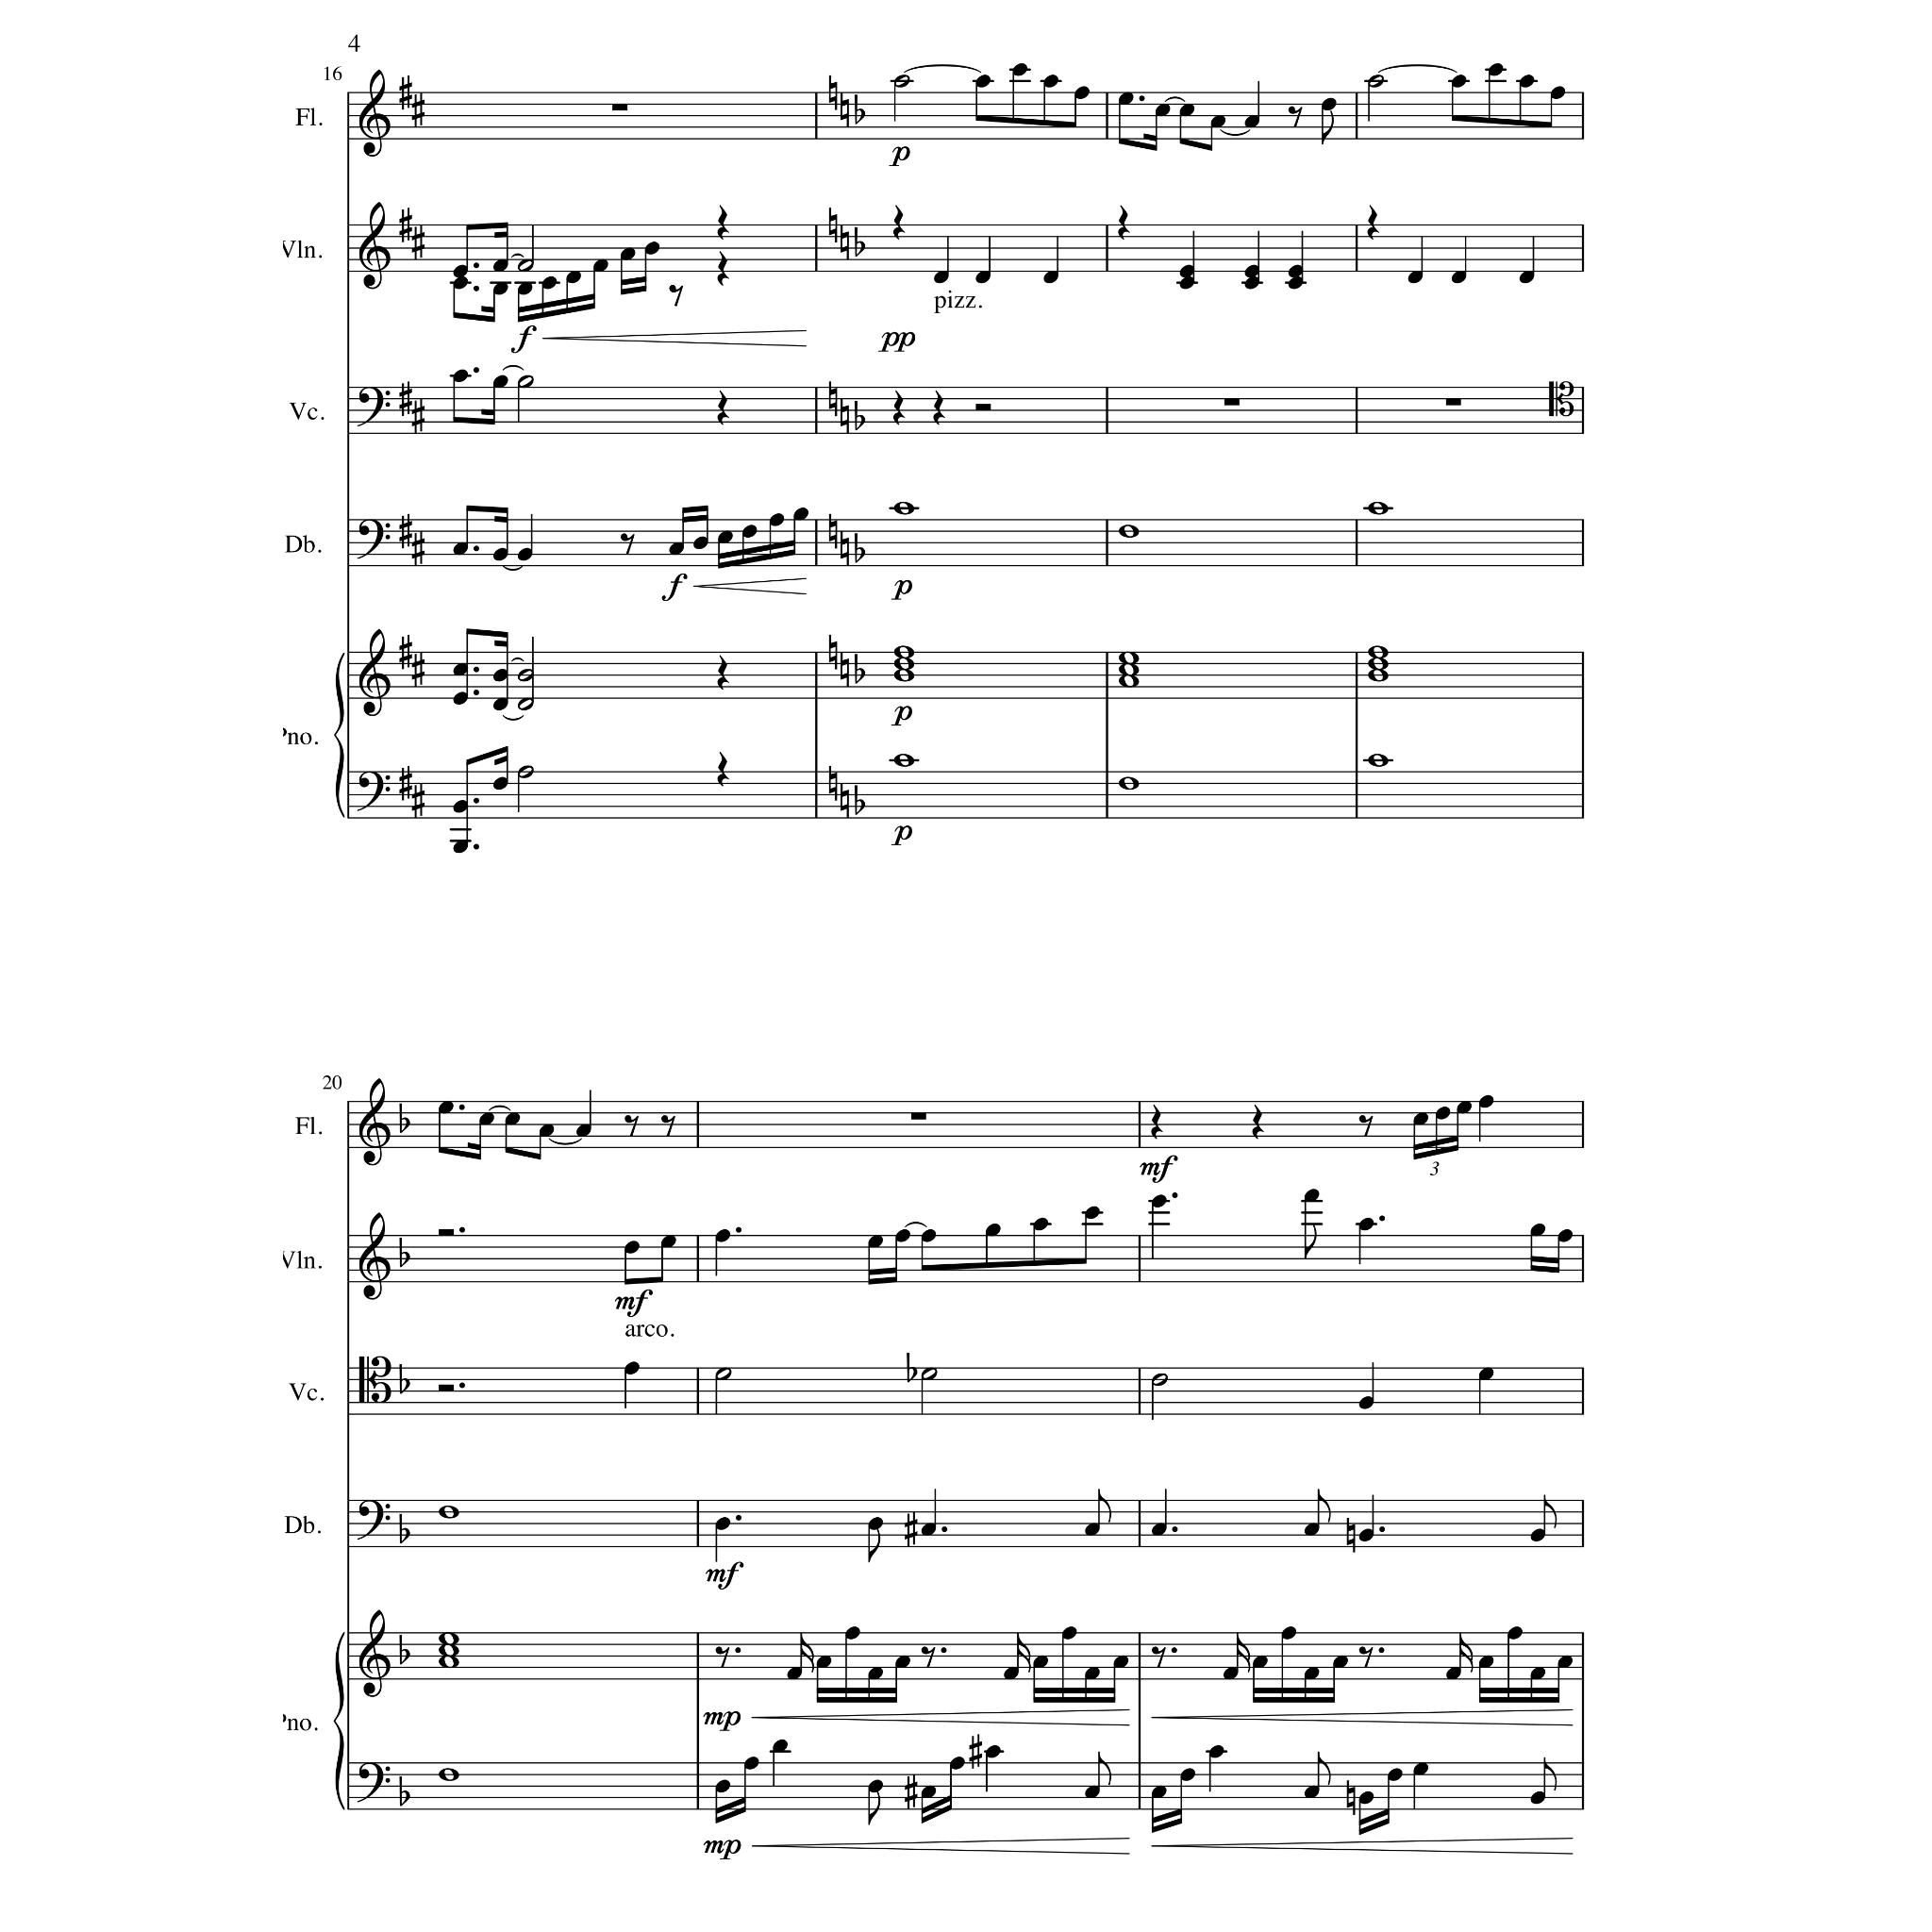brace: (333, 1633, 345, 1810), (333, 653, 345, 819)
fClef: (357, 387, 391, 428), (357, 771, 391, 812), (357, 1762, 391, 1803), (357, 520, 391, 559), (357, 1500, 391, 1539)
flag16thUp: (1460, 1633, 1474, 1674), (800, 1633, 814, 1674), (1237, 1633, 1249, 1674), (1017, 1633, 1030, 1674)
flag8thDown: (1322, 110, 1334, 145), (1304, 1224, 1316, 1258), (869, 1792, 881, 1826), (869, 1529, 881, 1562)
flag8thUp: (1545, 1757, 1557, 1792), (1318, 1490, 1330, 1523), (1318, 1752, 1330, 1785), (1099, 1752, 1111, 1785), (1099, 1490, 1111, 1523), (1545, 1495, 1557, 1529)
gClef: (359, 69, 391, 157), (359, 202, 391, 290), (359, 628, 391, 717), (359, 1077, 391, 1166), (359, 1212, 391, 1300), (359, 1610, 391, 1698)
noteheadBlack: (1042, 74, 1060, 88), (1042, 271, 1060, 285), (844, 1626, 862, 1640), (1210, 115, 1226, 129), (1244, 115, 1260, 129), (1244, 276, 1260, 290), (1178, 276, 1194, 290), (975, 74, 991, 88), (975, 271, 991, 285), (934, 271, 950, 285), (1074, 87, 1090, 101), (1118, 92, 1134, 106), (1550, 87, 1566, 101), (1518, 74, 1534, 88), (1518, 271, 1534, 285), (1288, 276, 1304, 290), (1322, 97, 1338, 111), (1407, 271, 1422, 285), (1451, 74, 1467, 88), (1451, 271, 1467, 285), (492, 281, 508, 295), (492, 375, 508, 389), (492, 697, 508, 711), (492, 669, 508, 683), (492, 777, 508, 791), (541, 276, 557, 290), (517, 281, 533, 295), (453, 276, 469, 290), (453, 541, 469, 556), (453, 840, 469, 855), (453, 800, 469, 814), (768, 513, 784, 527), (741, 524, 757, 538), (644, 242, 660, 257), (669, 541, 685, 556), (566, 271, 582, 285), (621, 248, 637, 262), (718, 531, 734, 545), (694, 536, 709, 550), (1180, 1767, 1196, 1782), (1223, 1667, 1238, 1681), (1208, 1744, 1224, 1759), (1359, 1217, 1375, 1231), (1304, 1667, 1320, 1681), (1281, 1626, 1297, 1640), (1359, 1529, 1375, 1543), (1304, 1522, 1320, 1536), (1304, 1785, 1320, 1799), (1359, 1396, 1375, 1410), (1150, 1522, 1166, 1536), (1150, 1785, 1166, 1799), (1085, 1522, 1100, 1536), (1085, 1667, 1100, 1681), (1085, 1785, 1100, 1799), (1530, 1529, 1546, 1543), (1530, 1667, 1546, 1681), (1387, 1767, 1403, 1782), (1479, 1095, 1495, 1109), (1479, 1368, 1495, 1382), (1507, 1626, 1523, 1640), (1435, 1106, 1451, 1120), (1445, 1667, 1461, 1681), (1456, 1100, 1472, 1115), (625, 1240, 640, 1254), (625, 1361, 640, 1375), (538, 1123, 554, 1138), (575, 1123, 591, 1138), (715, 1516, 731, 1530), (437, 1100, 453, 1115), (920, 1785, 936, 1799), (920, 1522, 936, 1536), (1003, 1667, 1019, 1681), (1033, 1217, 1049, 1231), (984, 1744, 1000, 1759), (771, 1739, 787, 1753), (786, 1667, 801, 1681), (867, 1516, 883, 1530), (867, 1667, 883, 1681), (1412, 1113, 1430, 1125), (1412, 1762, 1430, 1775), (1062, 1626, 1076, 1640), (1244, 265, 1260, 278), (1155, 104, 1171, 117), (1178, 104, 1194, 117), (1178, 265, 1194, 278), (1012, 64, 1028, 76), (1488, 64, 1504, 76), (1288, 265, 1304, 278), (492, 260, 508, 272), (492, 548, 508, 561), (517, 548, 533, 561), (453, 692, 469, 704), (453, 265, 469, 278), (453, 370, 469, 382), (453, 663, 469, 676), (793, 508, 809, 520), (593, 260, 609, 272), (1253, 1656, 1269, 1668), (1359, 1792, 1375, 1805), (1332, 1656, 1348, 1668), (1304, 1189, 1320, 1201), (1113, 1656, 1129, 1668), (1150, 1194, 1166, 1207), (1085, 1207, 1100, 1219), (1557, 1230, 1573, 1242), (1557, 1656, 1573, 1668), (1530, 1224, 1546, 1237), (1530, 1792, 1546, 1805), (1479, 1656, 1495, 1668), (660, 1235, 676, 1247), (479, 1113, 495, 1125), (504, 1113, 520, 1125), (715, 1230, 731, 1242), (715, 1780, 731, 1792), (895, 1230, 911, 1242), (895, 1656, 911, 1668), (920, 1230, 936, 1242), (1033, 1656, 1049, 1668), (948, 1757, 964, 1769), (984, 1224, 1000, 1237), (816, 1656, 832, 1668), (743, 1757, 759, 1769), (867, 1235, 883, 1247), (867, 1780, 883, 1792)
noteheadHalf: (517, 375, 534, 389), (517, 669, 534, 683), (715, 1368, 732, 1382), (920, 1368, 938, 1382), (1152, 1373, 1168, 1387), (517, 260, 534, 272), (517, 699, 534, 711), (517, 766, 534, 778), (893, 76, 911, 88), (1368, 76, 1384, 88)
noteheadWhole: (1118, 525, 1139, 540), (1118, 674, 1139, 688), (1118, 651, 1139, 665), (1118, 777, 1139, 791), (1368, 669, 1389, 683), (1368, 656, 1389, 671), (1368, 646, 1389, 660), (1368, 501, 1389, 515), (893, 501, 915, 515), (893, 669, 915, 683), (893, 656, 915, 671), (893, 646, 915, 660), (437, 1506, 458, 1520), (437, 1644, 458, 1658), (437, 1631, 458, 1645), (437, 1767, 458, 1782), (1118, 663, 1139, 676), (1368, 754, 1389, 766), (893, 754, 915, 766), (437, 1656, 458, 1668)
rest8th: (669, 285, 685, 308), (619, 533, 635, 556), (623, 1115, 639, 1138), (660, 1115, 676, 1138), (715, 1645, 731, 1668), (920, 1645, 936, 1668), (1288, 106, 1302, 129), (1359, 1115, 1373, 1138), (1359, 1645, 1373, 1668), (1152, 1645, 1166, 1668)
restHalf: (975, 403, 991, 410), (439, 1230, 455, 1237), (439, 1384, 455, 1391)
restQuarter: (932, 391, 945, 426), (1118, 205, 1131, 241), (1368, 205, 1380, 241), (893, 205, 906, 241), (893, 391, 906, 426), (1251, 1104, 1263, 1139), (1150, 1104, 1162, 1139), (718, 205, 729, 241), (718, 251, 729, 287), (718, 391, 729, 426), (718, 655, 729, 690), (718, 752, 729, 787)
restWhole: (1224, 398, 1240, 405), (612, 104, 628, 111), (1445, 398, 1461, 405), (909, 1113, 925, 1120)
